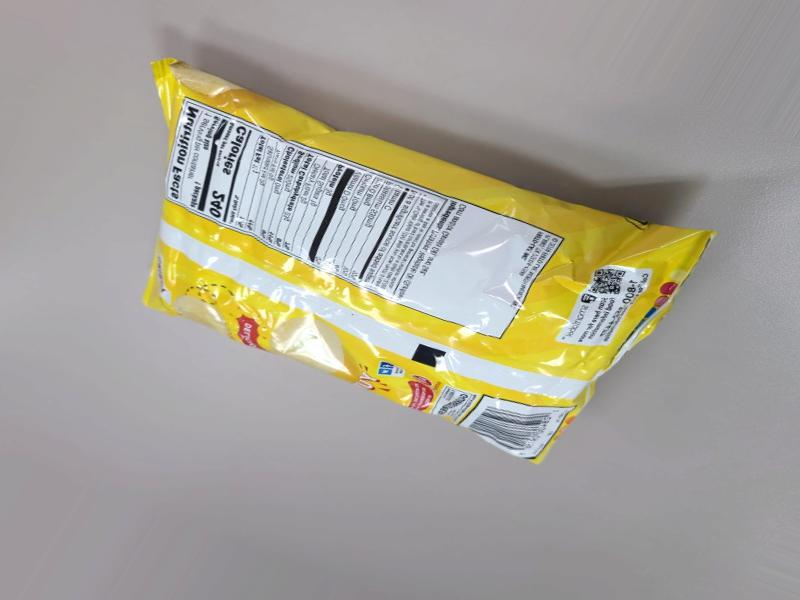lays: (194, 39, 800, 403)
